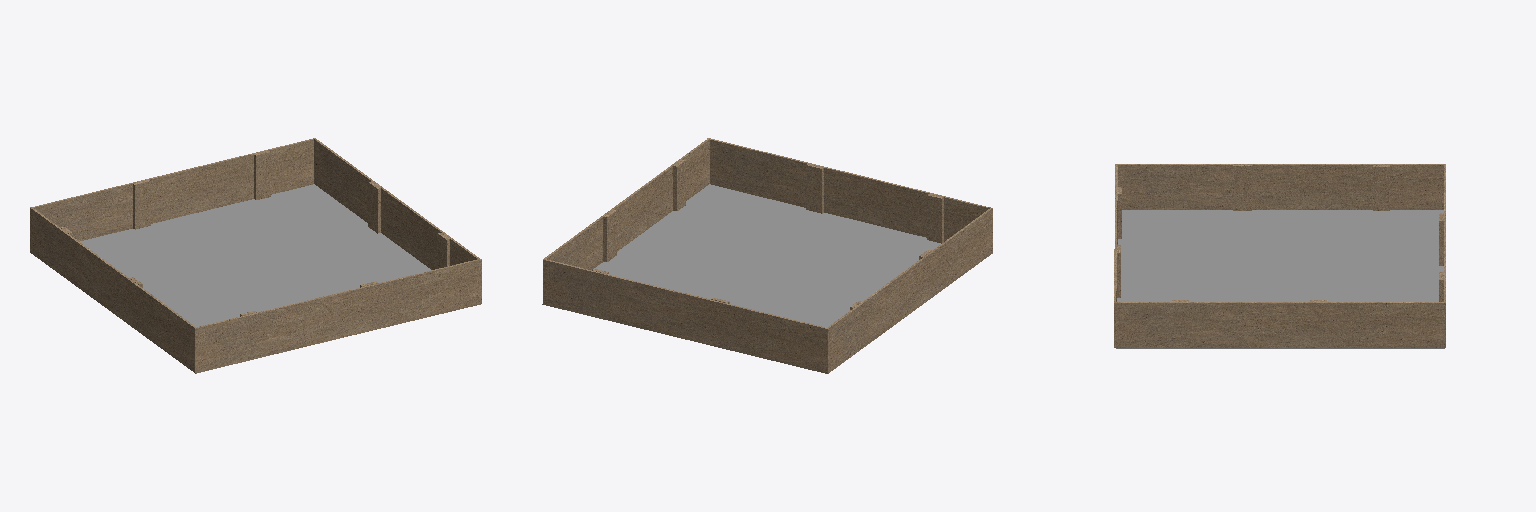
3 renders of one model, left to right at view 1: azimuth 30°, elevation 25°; view 2: azimuth 150°, elevation 25°; view 3: azimuth 270°, elevation 25°, orthographic.
Visible parts, largest first — view 1: Cube, Cube.007_Cube.008, Cube.008_Cube.009, Cube.006_Cube.007, Cube.002_Cube.005; view 2: Cube, Cube.008_Cube.009, Cube.007_Cube.008, Cube.006_Cube.007, Cube.002_Cube.005; view 3: Cube, Cube.002_Cube.005, Cube.006_Cube.007, Cube.007_Cube.008, Cube.008_Cube.009.
Part boxes in pixels (x1,y1,x2,y2): Cube: (31, 184, 430, 373); Cube.007_Cube.008: (195, 259, 481, 372); Cube.008_Cube.009: (30, 138, 315, 252); Cube.006_Cube.007: (31, 207, 195, 372); Cube.002_Cube.005: (314, 139, 479, 269); Cube: (542, 184, 992, 373); Cube.008_Cube.009: (543, 259, 828, 373); Cube.007_Cube.008: (707, 138, 990, 243); Cube.006_Cube.007: (827, 208, 992, 372); Cube.002_Cube.005: (544, 139, 709, 269); Cube: (1116, 210, 1444, 348); Cube.002_Cube.005: (1116, 300, 1445, 347); Cube.006_Cube.007: (1116, 164, 1444, 210); Cube.007_Cube.008: (1114, 164, 1121, 347); Cube.008_Cube.009: (1439, 164, 1445, 347).
Bounding box in the file's own units: 366 × 56.09 × 369.
Materials: 2 (1 with a texture image).